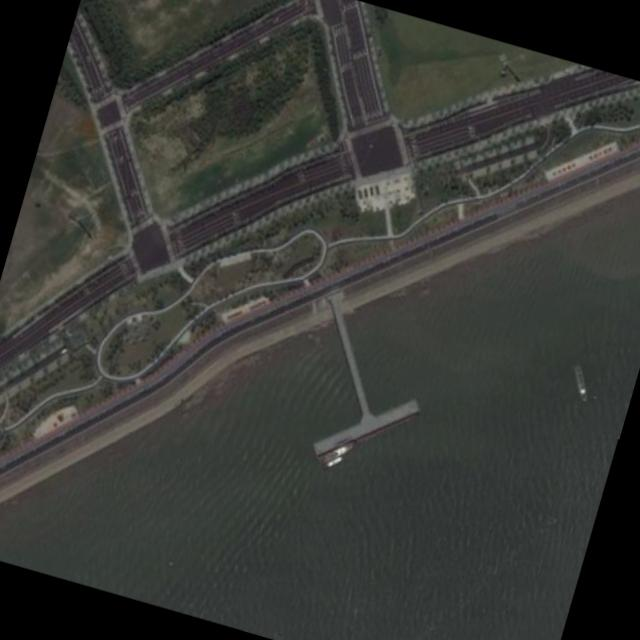ship: (319, 440, 355, 464), (571, 364, 588, 399)
